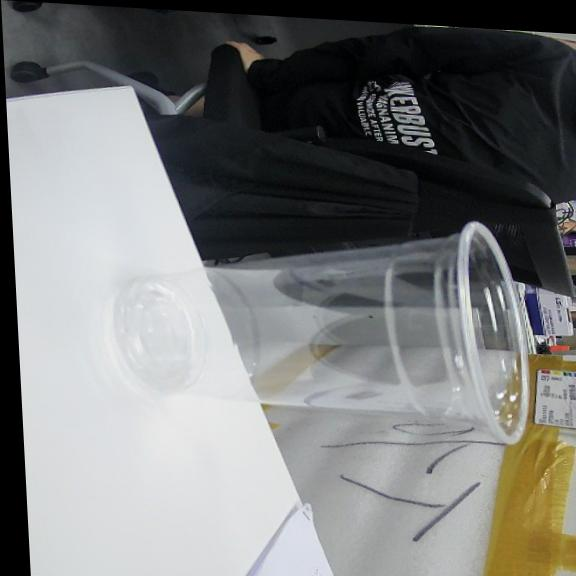Plastik: (117, 222, 527, 443)
